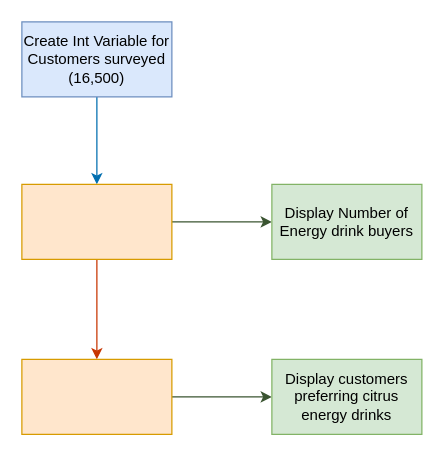
Some shapes in this 444 by 456 pixel diagram are drawn without their labels. The shapes that lost their labels are listed below. From the top down, each one's centre as x and y in pixels, then its label:
At point 96,221: "Calculate energy drink buying customers based on surveyed customers".
At point 96,396: "Calculate Citrus preference based on energy drink buyers.".
